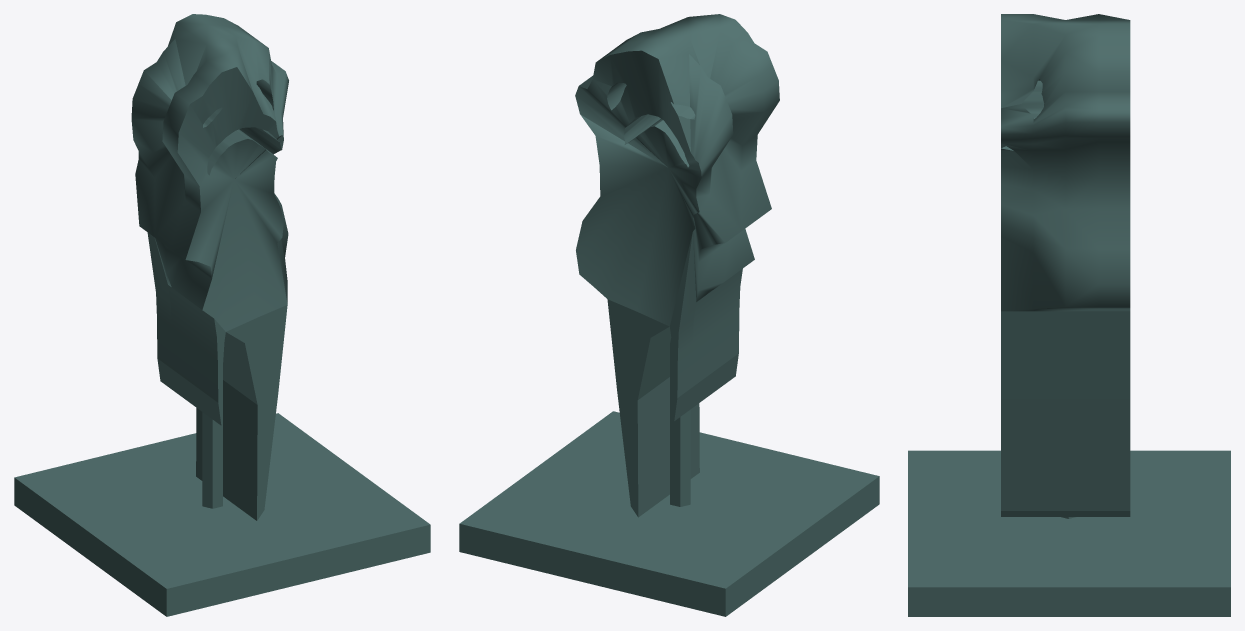
File: SombraMCS.fbx
3 renders of one model, left to right at view 1: azimuth 30°, elevation 25°; view 2: azimuth 150°, elevation 25°; view 3: azimuth 270°, elevation 25°, orthographic. The views are drawn at different scales.
Visible parts, largest first — view 1: SombraM, SuporteM, pCylinder12; view 2: SombraM, SuporteM, pCylinder12; view 3: SombraM, SuporteM.
Part boxes in pixels (left/top/right/bottom): SombraM: left=131, top=14, right=288, bottom=520; SuporteM: left=14, top=413, right=430, bottom=616; pCylinder12: left=202, top=367, right=222, bottom=508; SombraM: left=575, top=14, right=779, bottom=517; SuporteM: left=459, top=411, right=879, bottom=616; pCylinder12: left=670, top=338, right=690, bottom=506; SombraM: left=1001, top=14, right=1130, bottom=516; SuporteM: left=908, top=450, right=1230, bottom=616.
Size of the model in its own units: 1 by 1.79 by 1.
